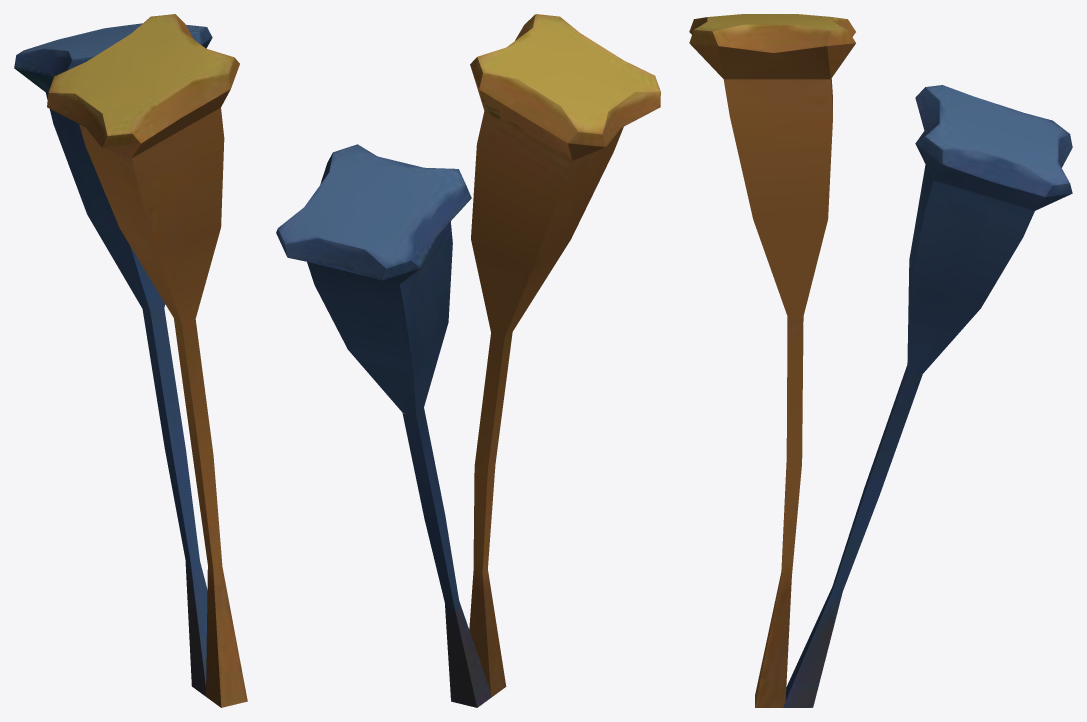
The model's file is FOL_Flower_Big_02.obj.
3 renders of one model, left to right at view 1: azimuth 30°, elevation 25°; view 2: azimuth 150°, elevation 25°; view 3: azimuth 270°, elevation 25°, orthographic.
Visible parts, largest first — view 1: FOL_Flower_Big_02; view 2: FOL_Flower_Big_02; view 3: FOL_Flower_Big_02.
Boxes of the visible parts, <box> form: FOL_Flower_Big_02: <box>14,14,247,707</box>; FOL_Flower_Big_02: <box>276,14,660,707</box>; FOL_Flower_Big_02: <box>689,14,1072,707</box>.
Size of the model in its own units: 0.2923 by 0.8331 by 0.4385.
Materials: 1 (1 with a texture image).
